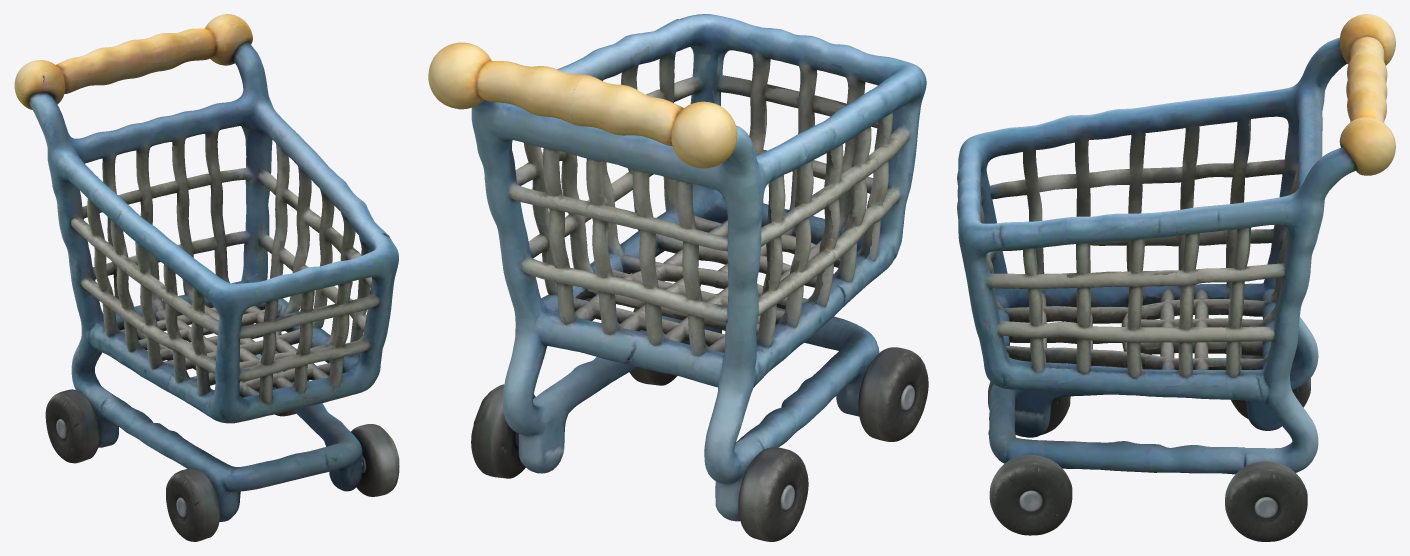
File: sabad.glb
3 renders of one model, left to right at view 1: azimuth 30°, elevation 25°; view 2: azimuth 150°, elevation 25°; view 3: azimuth 270°, elevation 25°, orthographic. The views are drawn at different scales.
Visible parts, largest first — view 1: sabad, wheel_BR, wheel_FR, wheel_FL; view 2: sabad, wheel_FR, wheel_BR, wheel_BL; view 3: sabad, wheel_FL, wheel_BL, wheel_FR, wheel_BR.
Boxes of the visible parts, <box> form: sabad: <box>14,14,398,521</box>; wheel_BR: <box>45,389,100,463</box>; wheel_FR: <box>166,468,220,541</box>; wheel_FL: <box>351,424,399,496</box>; sabad: <box>428,14,926,521</box>; wheel_FR: <box>858,347,928,441</box>; wheel_BR: <box>738,447,808,541</box>; wheel_BL: <box>471,384,535,478</box>; sabad: <box>957,14,1395,474</box>; wheel_FL: <box>989,455,1072,535</box>; wheel_BL: <box>1225,461,1307,541</box>; wheel_FR: <box>988,382,1070,436</box>; wheel_BR: <box>1231,355,1310,419</box>.
Bounding box in the file's own units: 4.47 × 6.69 × 6.41.
6 materials, 5 textured.
